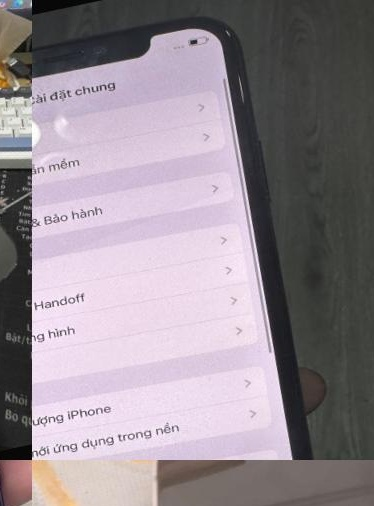screen_defect: (32, 104, 45, 158)
